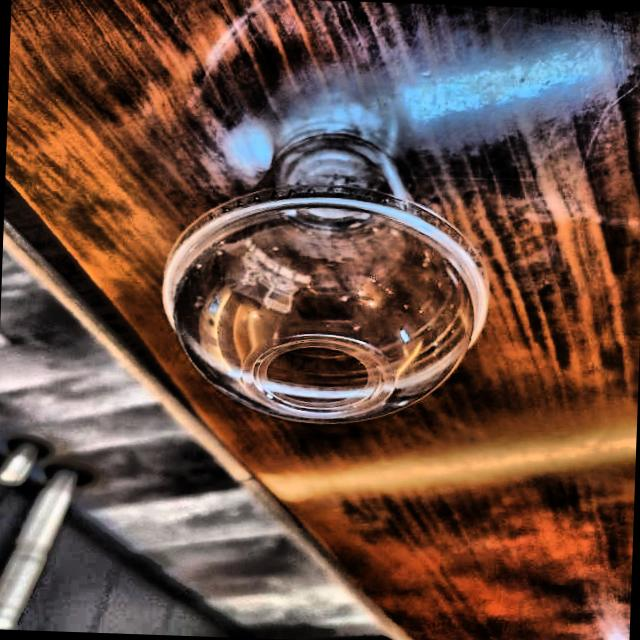plastic cup: (139, 92, 512, 436)
